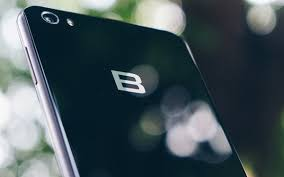bphone: (15, 4, 252, 176)
